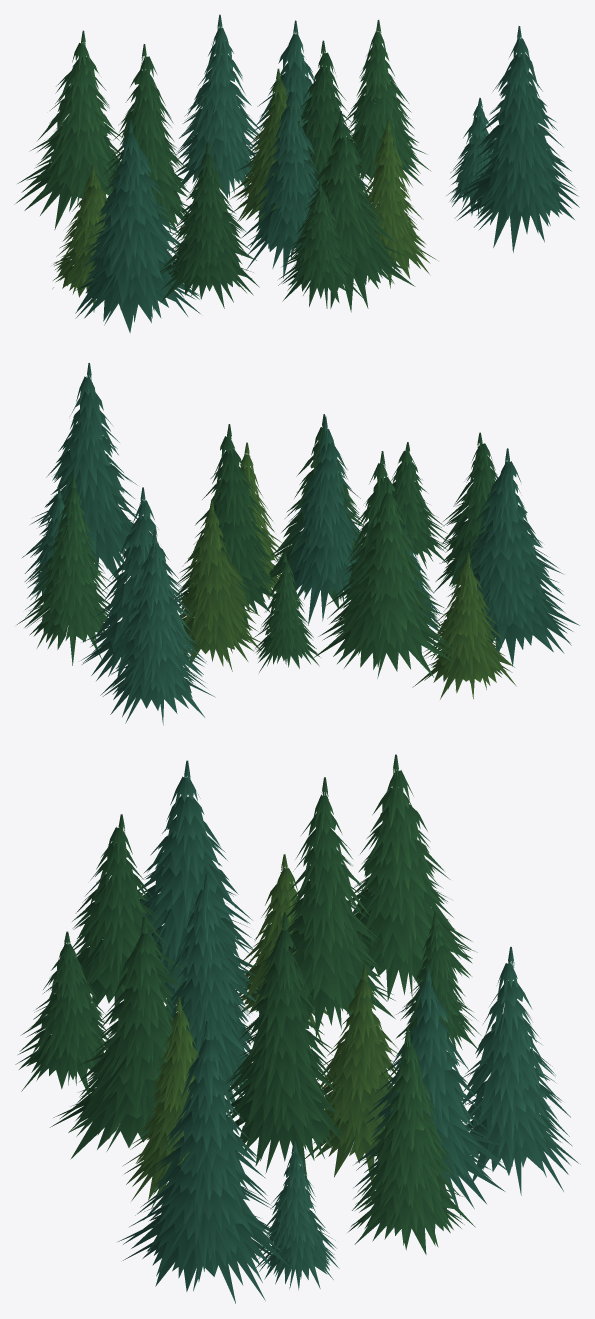
File: pine_2.glb
3 renders of one model, top to bottom at view 1: azimuth 30°, elevation 25°; view 2: azimuth 150°, elevation 25°; view 3: azimuth 270°, elevation 25°, orthographic. The views are drawn at different scales.
Parts seen in each view (by area): view 1: pine_2; view 2: pine_2; view 3: pine_2.
Boxes of the visible parts, x1=… form: pine_2: x1=14, y1=14, x2=579, y2=333; pine_2: x1=17, y1=363, x2=579, y2=725; pine_2: x1=15, y1=754, x2=580, y2=1303.
Size of the model in its own units: 38.12 by 16.78 by 28.45.
1 material, 1 textured.
